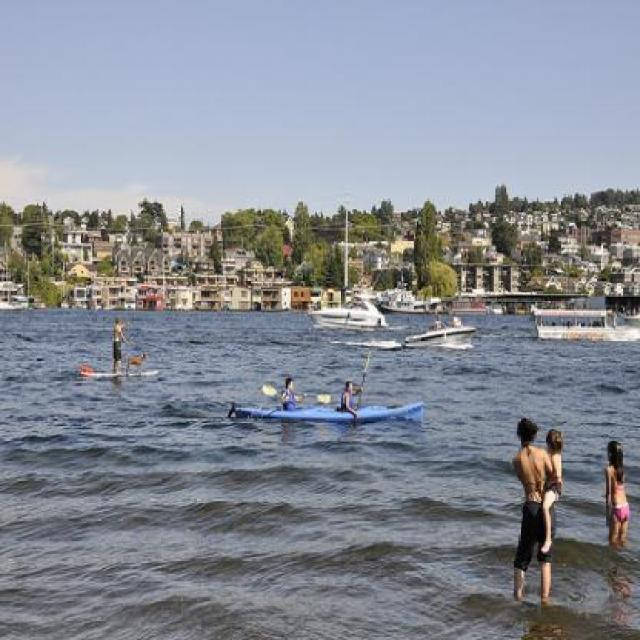ship: (520, 283, 638, 346), (302, 286, 387, 332), (395, 316, 476, 352)
